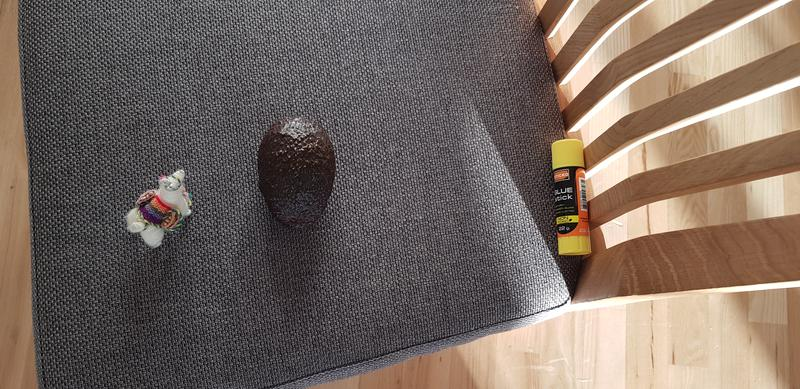Avocado: (255, 115, 345, 242)
Glue-Stick: (542, 136, 597, 261)
Horse-Toy: (119, 165, 209, 258)
